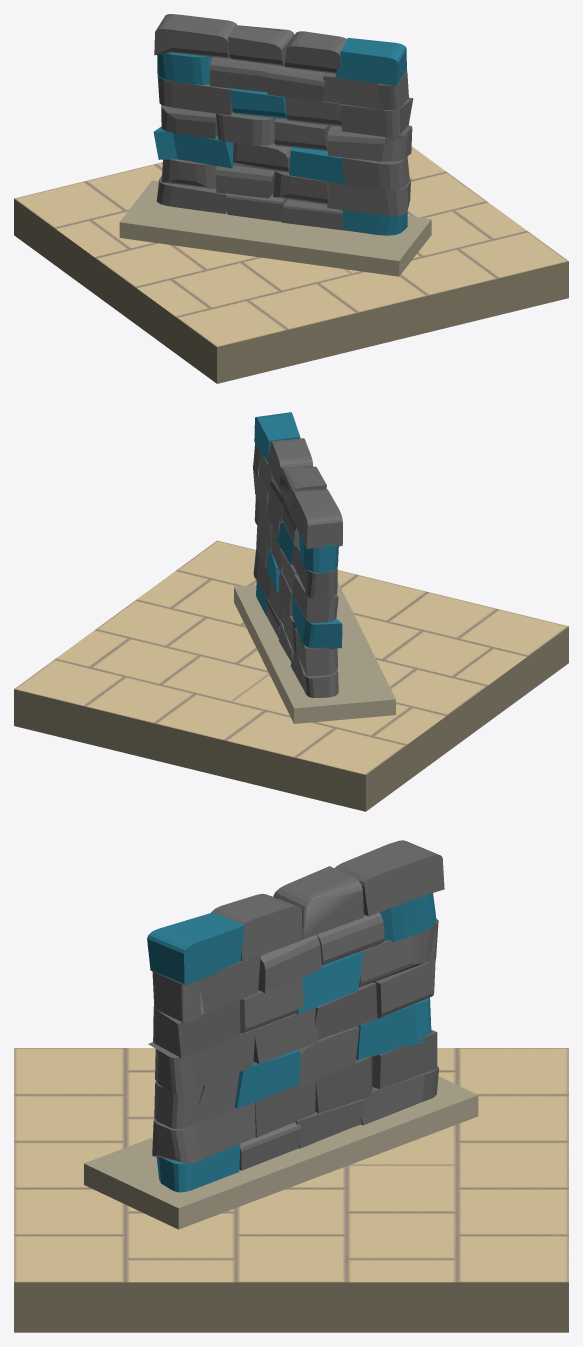
Rendered from tile0079.gltf.
The picture shows the model from 3 angles, top to bottom: view 1: azimuth 30°, elevation 25°; view 2: azimuth 150°, elevation 25°; view 3: azimuth 270°, elevation 25°; orthographic projection. The views are drawn at different scales.
Parts seen in each view (by area): view 1: Cube.001, Cube, Cube.002; view 2: Cube.001, Cube, Cube.002; view 3: Cube.001, Cube, Cube.002.
Boxes of the visible parts, x1,y1,x2,y2 form: Cube.001: (14, 146, 568, 383); Cube: (153, 14, 413, 235); Cube.002: (119, 180, 431, 276); Cube.001: (14, 540, 568, 811); Cube: (252, 412, 342, 697); Cube.002: (234, 582, 395, 723); Cube.001: (14, 1048, 568, 1332); Cube: (147, 840, 444, 1192); Cube.002: (84, 1076, 478, 1229).
Size of the model in its own units: 2 by 1.27 by 2.
Materials: 5 (1 with a texture image).
